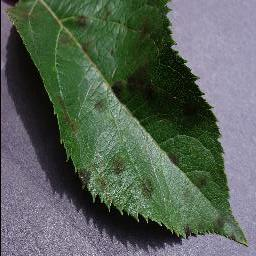apple healthy: (5, 0, 248, 247)
